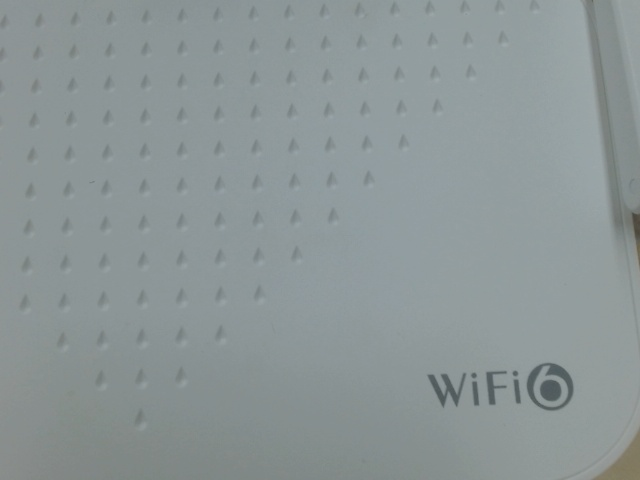AK_ZTEWIFI6: (423, 357, 584, 414)
